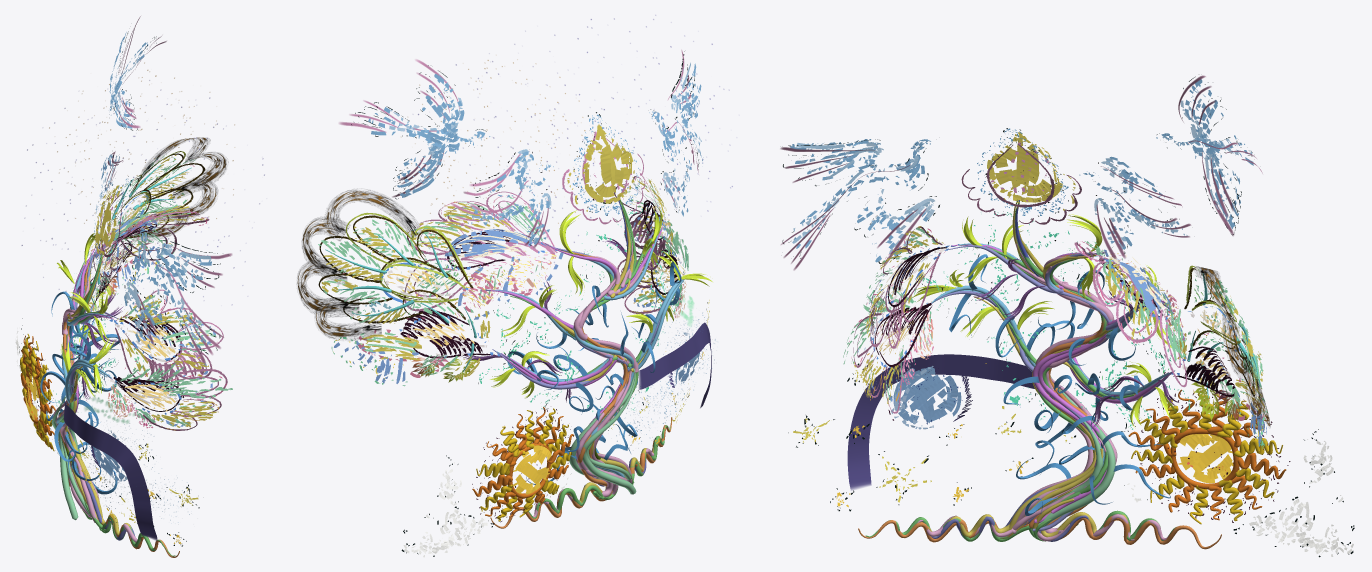
File: artwork-1.glb
3 renders of one model, left to right at view 1: azimuth 30°, elevation 25°; view 2: azimuth 150°, elevation 25°; view 3: azimuth 270°, elevation 25°, orthographic. The views are drawn at different scales.
Parts seen in each view (by area): view 1: brush_marker_0, brush_icing_0, brush_wigglygraphite_0, brush_rainbow_0, brush_spikes_0, brush_fire_0, brush_petal_0, brush_highlighter_0, brush_snow_0, brush_smoke_0; view 2: brush_marker_0, brush_icing_0, brush_wigglygraphite_0, brush_fire_0, brush_spikes_0, brush_petal_0, brush_highlighter_0, brush_rainbow_0, brush_feather_0; view 3: brush_marker_0, brush_icing_0, brush_wigglygraphite_0, brush_spikes_0, brush_rainbow_0, brush_petal_0, brush_highlighter_0, brush_fire_0, brush_feather_0.
Part boxes in pixels (x1,y1,x2,y2): brush_marker_0: [15, 31, 232, 546]; brush_icing_0: [20, 165, 191, 557]; brush_wigglygraphite_0: [91, 151, 227, 467]; brush_rainbow_0: [63, 402, 157, 540]; brush_spikes_0: [40, 291, 120, 494]; brush_fire_0: [133, 137, 228, 241]; brush_petal_0: [57, 233, 123, 400]; brush_highlighter_0: [100, 16, 232, 363]; brush_snow_0: [21, 62, 264, 338]; brush_smoke_0: [84, 395, 139, 423]; brush_marker_0: [318, 51, 709, 557]; brush_icing_0: [325, 196, 684, 528]; brush_wigglygraphite_0: [318, 131, 678, 387]; brush_fire_0: [297, 190, 421, 340]; brush_spikes_0: [507, 261, 681, 484]; brush_petal_0: [461, 209, 712, 402]; brush_highlighter_0: [339, 50, 698, 248]; brush_rainbow_0: [639, 322, 711, 408]; brush_feather_0: [358, 337, 477, 382]; brush_marker_0: [782, 76, 1354, 557]; brush_icing_0: [858, 199, 1286, 549]; brush_wigglygraphite_0: [853, 144, 1255, 421]; brush_spikes_0: [949, 254, 1170, 515]; brush_rainbow_0: [847, 354, 1034, 490]; brush_petal_0: [912, 214, 1178, 428]; brush_highlighter_0: [780, 75, 1262, 270]; brush_fire_0: [1194, 266, 1270, 426]; brush_feather_0: [1191, 381, 1259, 420].
Size of the model in its own units: 19.78 by 28.25 by 27.63.
12 materials, 8 textured.
